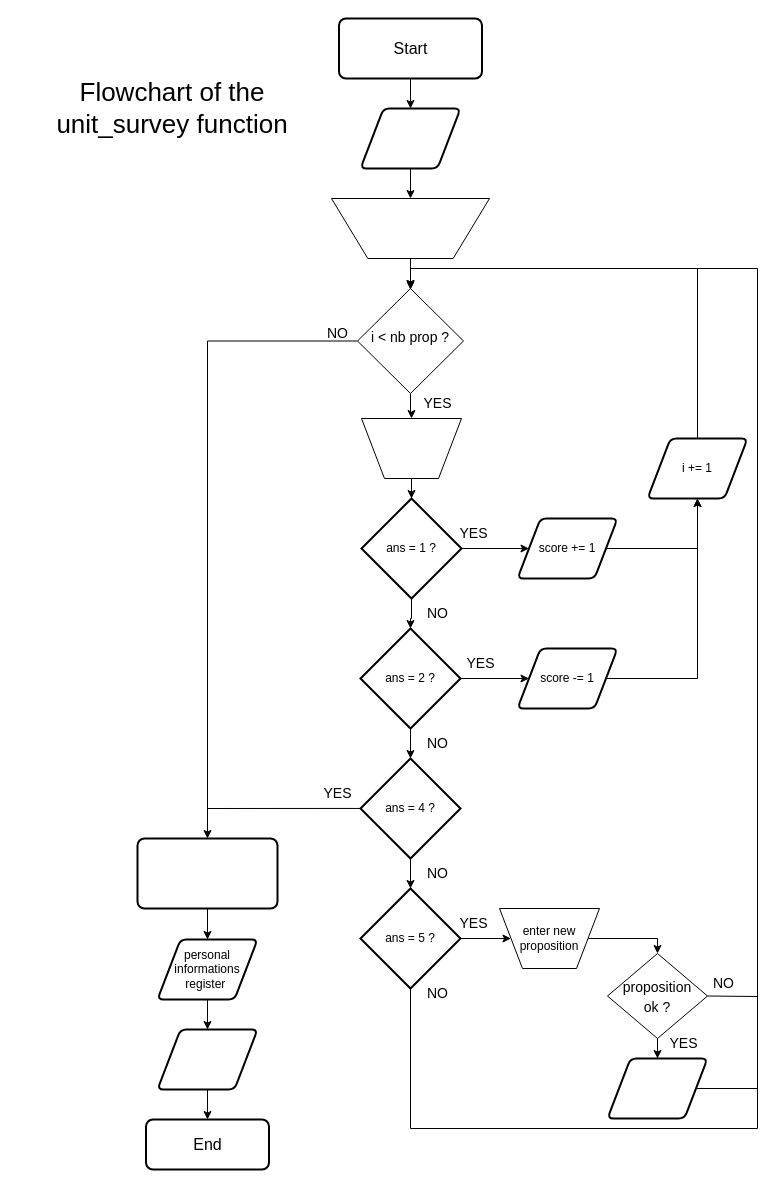
This 783x1187 diagram has some shape labels left out. Each missing label, with the centre of its shape:
"give your ans" goes at [411,448].
"infoperso" goes at [207,873].
"input in" goes at [410,138].
"output data" goes at [207,1059].
"press enter to begin" goes at [410,228].
"proposition register" goes at [657,1088].
